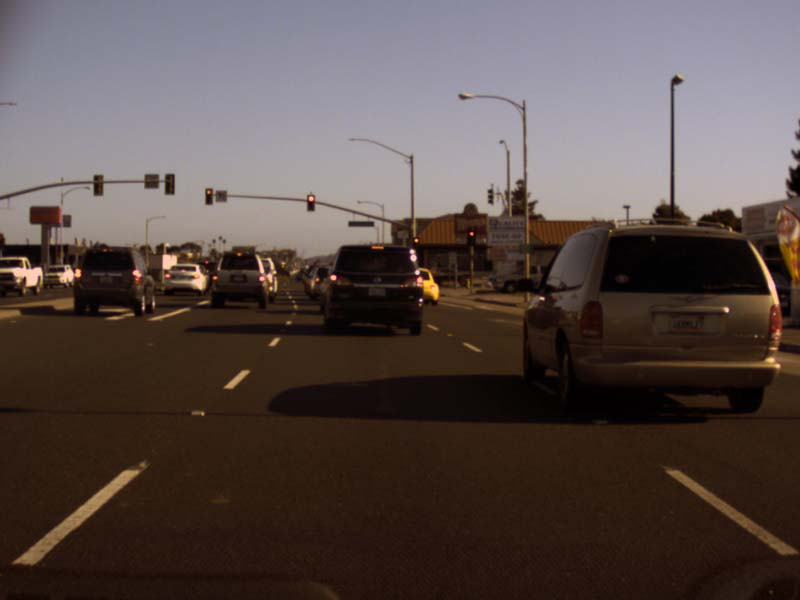Red: (306, 194, 314, 211), (204, 188, 212, 204), (467, 229, 475, 244), (412, 237, 418, 250)
